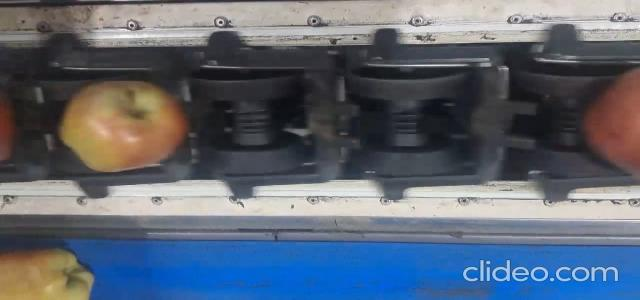apple: (59, 81, 188, 172)
